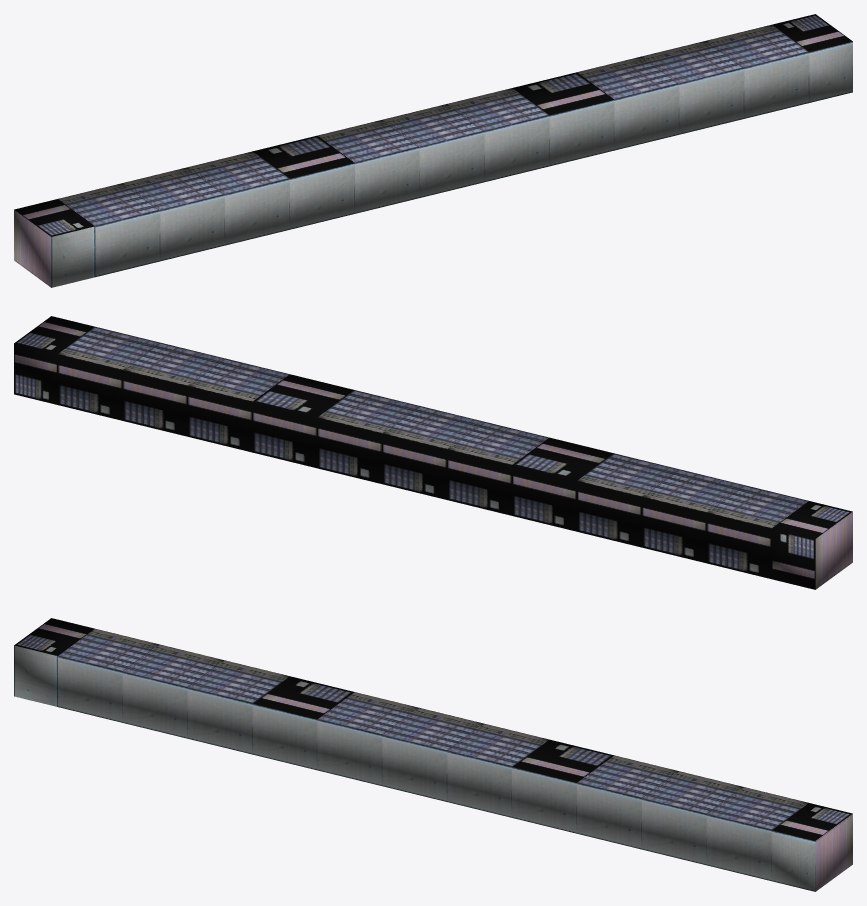
The model's file is blok_b.fbx.
3 renders of one model, top to bottom at view 1: azimuth 30°, elevation 25°; view 2: azimuth 150°, elevation 25°; view 3: azimuth 330°, elevation 25°, orthographic.
Visible parts, largest first — view 1: Cube.004; view 2: Cube.004; view 3: Cube.004.
Part boxes in pixels (x1=…): Cube.004: x1=14, y1=14, x2=852, y2=287; Cube.004: x1=14, y1=316, x2=852, y2=589; Cube.004: x1=14, y1=618, x2=852, y2=891.
Size of the model in its own units: 49.4 by 3 by 4.
1 material, 1 textured.
